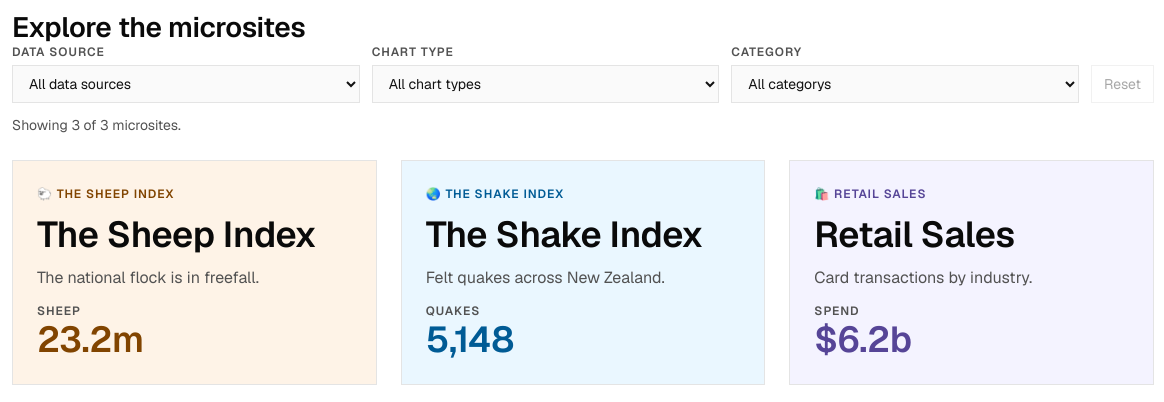
MicrositeGallery › filters by chart type alone
The width and height of the screenshot is (1164, 402).
Select "Streamgraph" in the dropdown labelled "Chart type" at (546, 84), box x1=372 y1=65 x2=719 y2=103
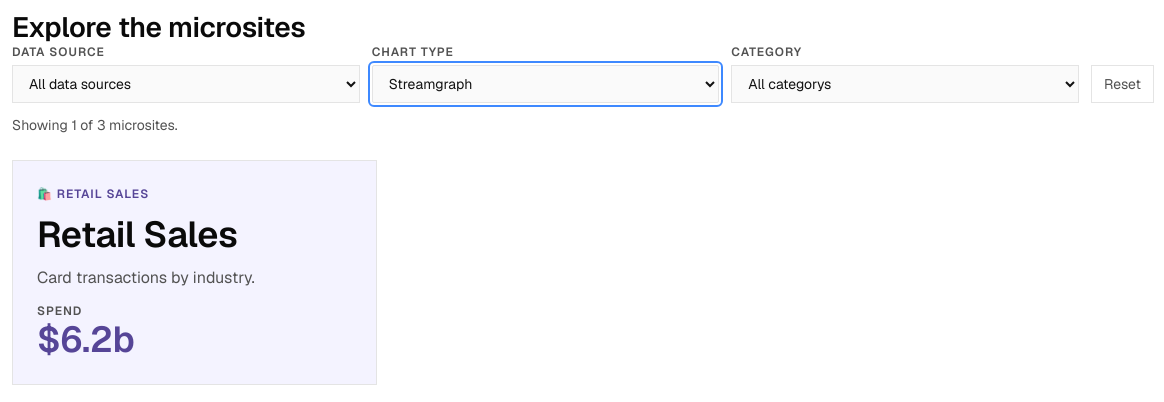
Expected: the link "retail sales" is shown, x1=12 y1=160 x2=377 y2=385
Result: the link "the sheep index" is gone
Result: the text "Showing 1 of 3 microsites." is shown at x1=12 y1=116 x2=178 y2=134
